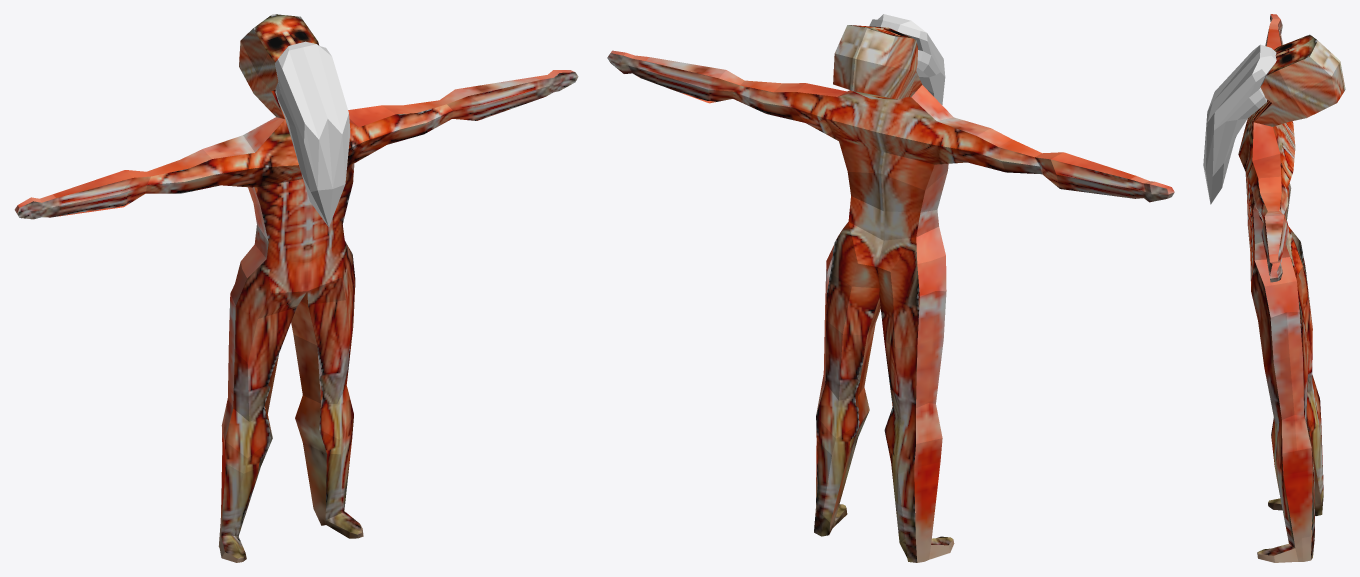
The model's file is beardWise.fbx.
3 renders of one model, left to right at view 1: azimuth 30°, elevation 25°; view 2: azimuth 150°, elevation 25°; view 3: azimuth 270°, elevation 25°, orthographic. The views are drawn at different scales.
Visible parts, largest first — view 1: Cube, Cube.001; view 2: Cube, Cube.001; view 3: Cube, Cube.001.
Boxes of the visible parts, box(x1,y1,x2,y2) form: Cube: box(14, 14, 578, 562); Cube.001: box(275, 41, 350, 226); Cube: box(607, 25, 1174, 562); Cube.001: box(869, 14, 945, 104); Cube: box(1238, 14, 1345, 562); Cube.001: box(1203, 44, 1276, 204).
Size of the model in its own units: 534 by 471 by 123.
